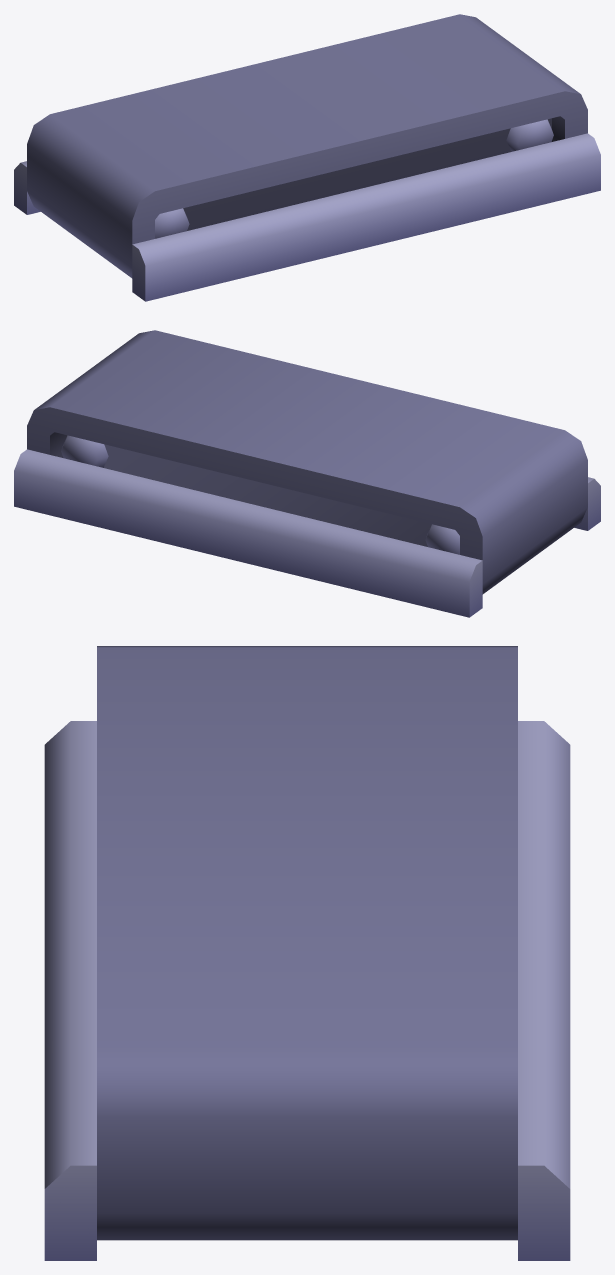
The model's file is conveyor-long-sides.fbx.
The picture shows the model from 3 angles, top to bottom: view 1: azimuth 30°, elevation 25°; view 2: azimuth 150°, elevation 25°; view 3: azimuth 270°, elevation 25°; orthographic projection. The views are drawn at different scales.
Parts seen in each view (by area): view 1: conveyor-long-sides; view 2: conveyor-long-sides; view 3: conveyor-long-sides.
Boxes of the visible parts, x1,y1,x2,y2 form: conveyor-long-sides: (14,14,600,301); conveyor-long-sides: (14,330,600,617); conveyor-long-sides: (44,646,570,1260).
Bounding box in the file's own units: 200 × 40 × 100.
1 material, 1 textured.
